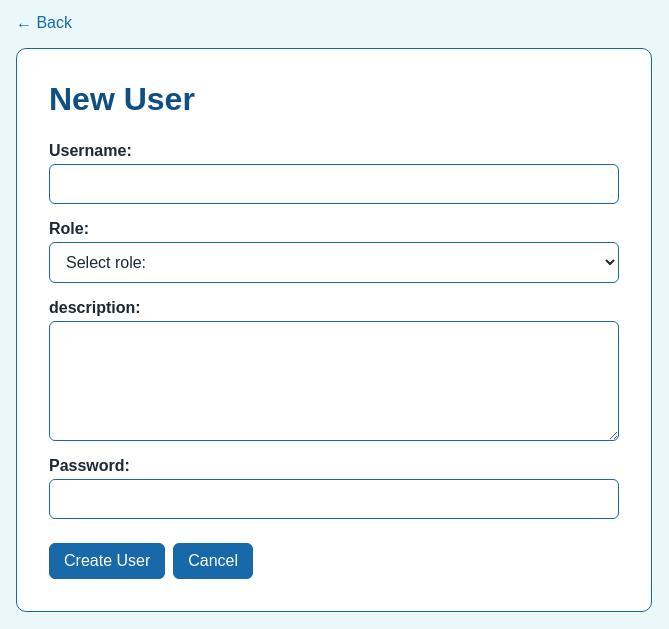
Scenario: NewUser › shows a success message after a successful user creation
Type "testuser" into the field labelled "Username:" at (334, 184), box [49,164,619,204]
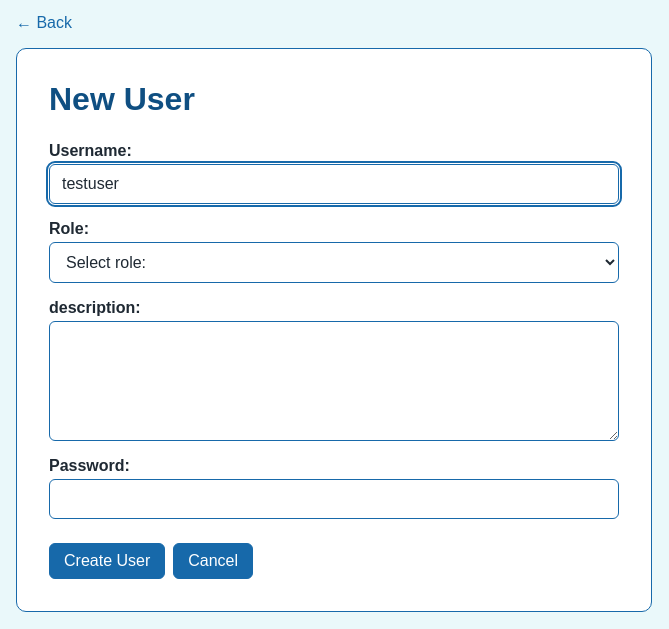
Type "password123" into the field labelled "Password:" at (334, 499), box [49,479,619,519]
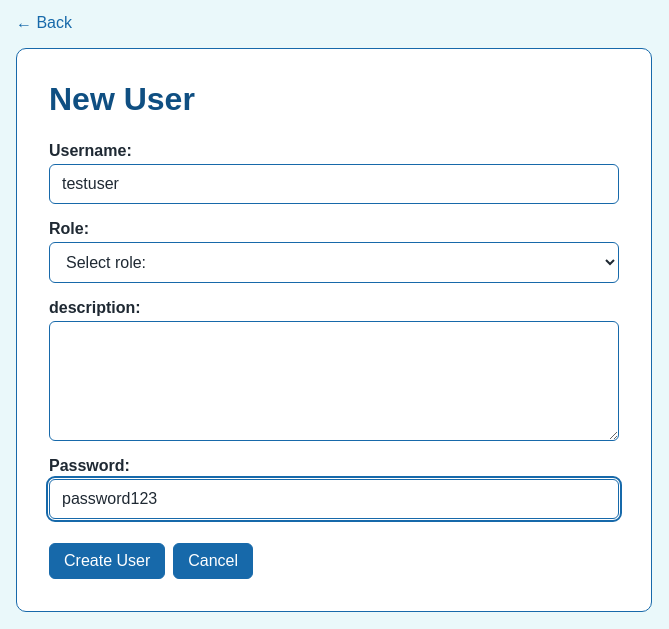
Select "Student" in the dropdown labelled "Role:" at (334, 262), box [49,242,619,283]
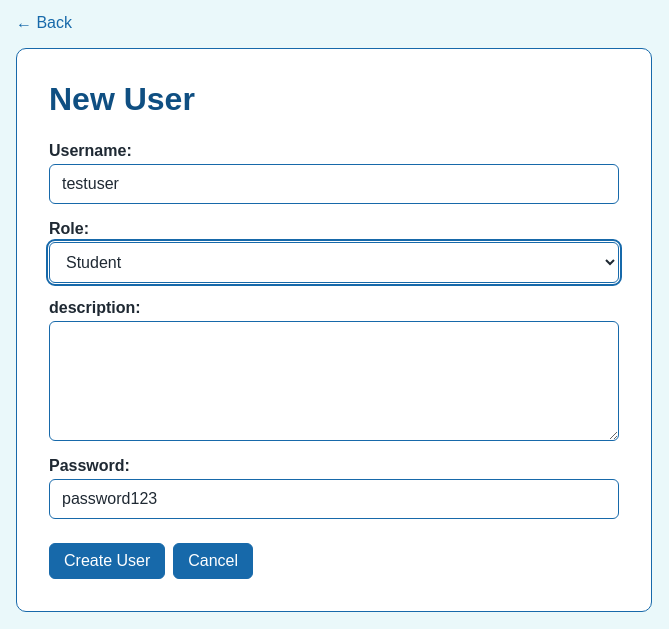
Click the button "Create User" at (107, 561), box [49,543,165,579]
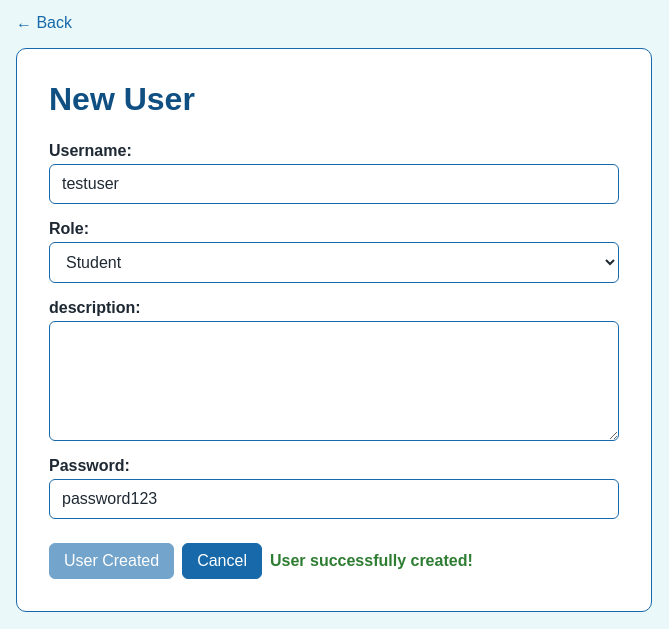
Expected: the text "User successfully created!" is shown, [270,552,473,570]
